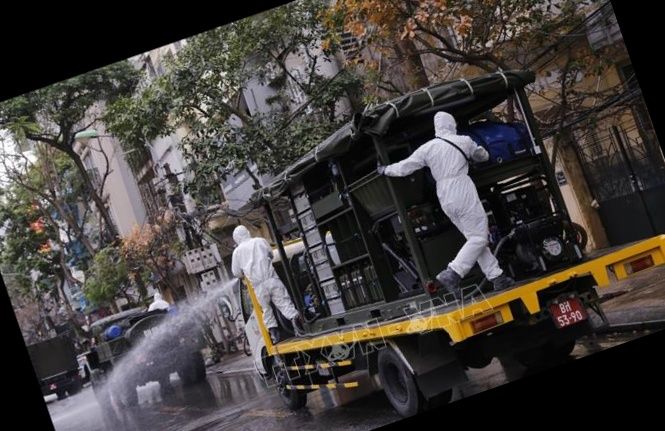plate: (545, 297, 585, 334)
